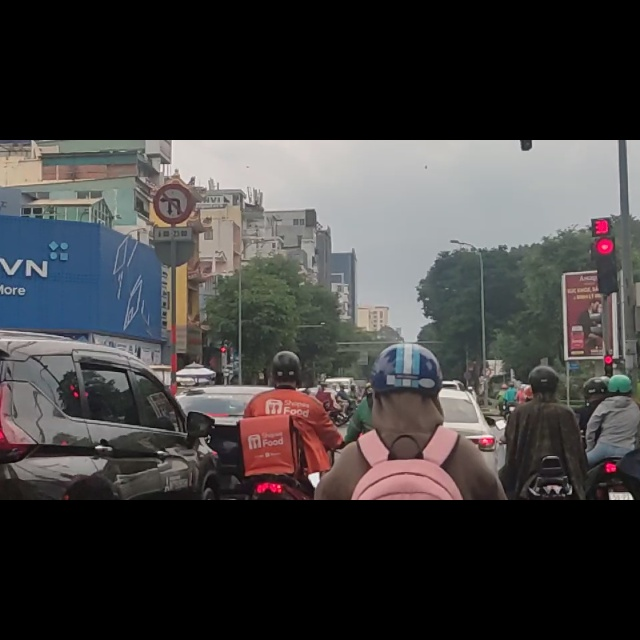bien_cam: (152, 72, 195, 152)
